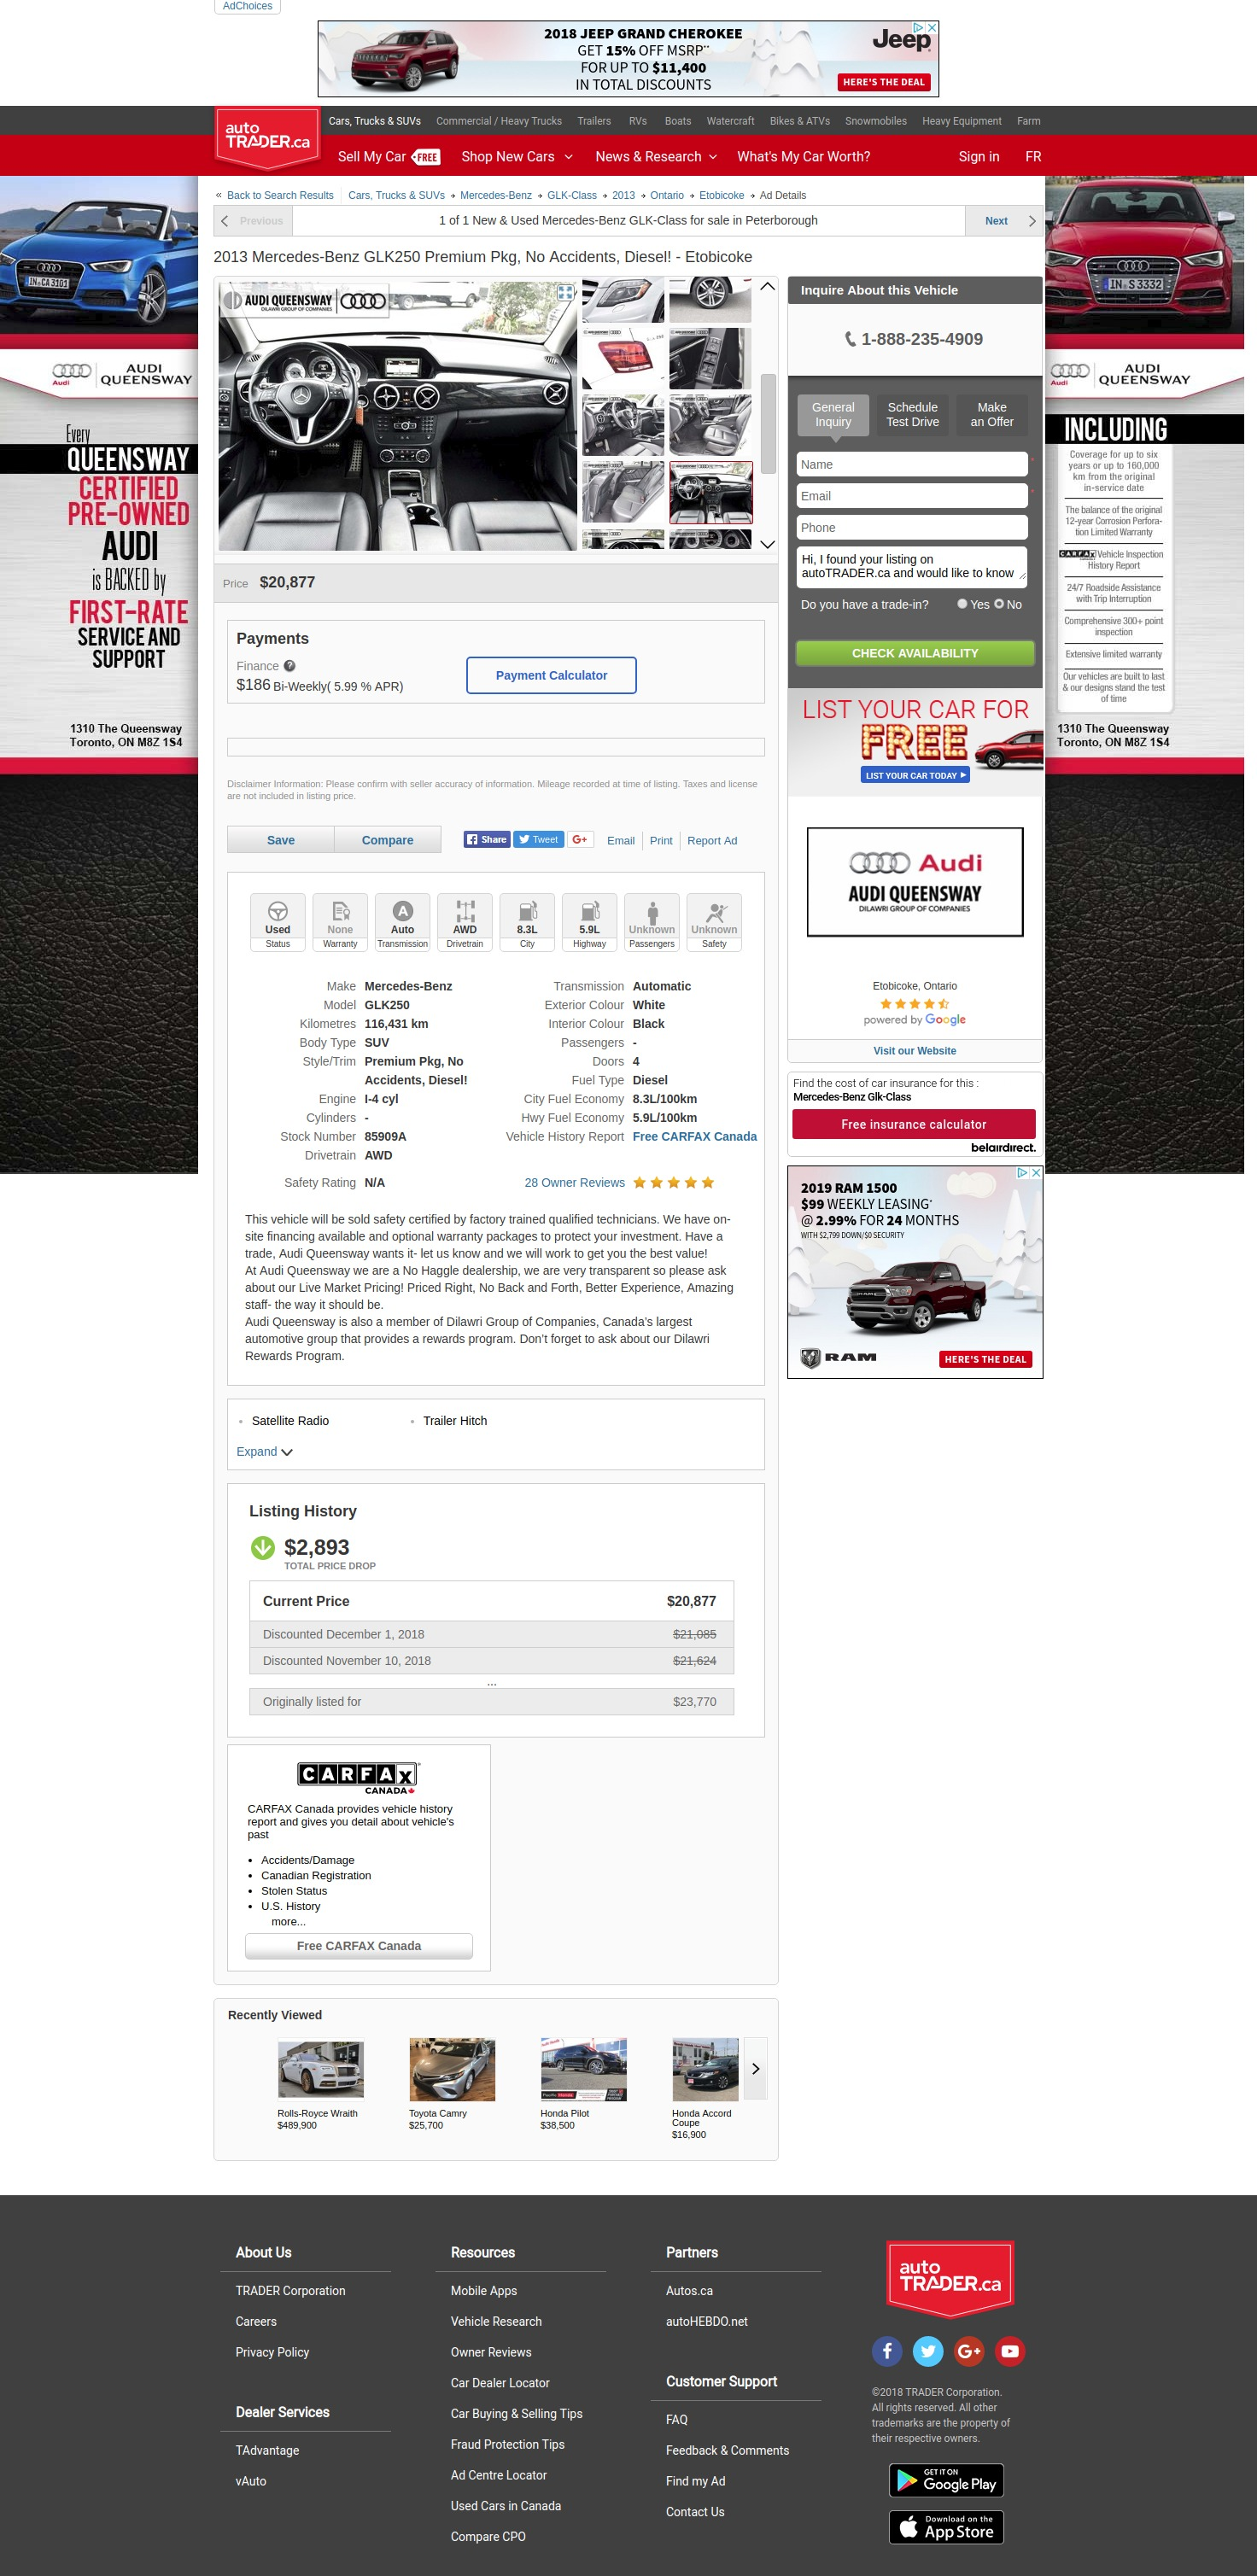car: (761, 539, 777, 550)
